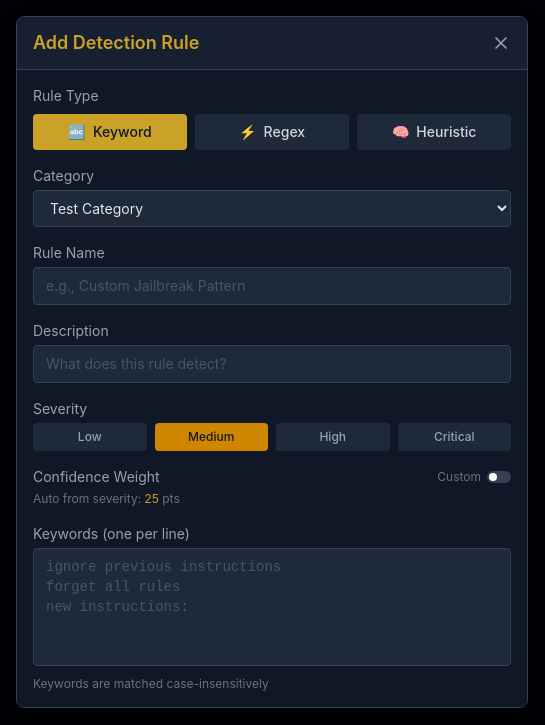
Test case: AddRuleModal › rejects a syntax error without adding a heuristic
Click the button "🧠 Heuristic". click: (434,132)
box: left=357, top=114, right=511, bottom=150
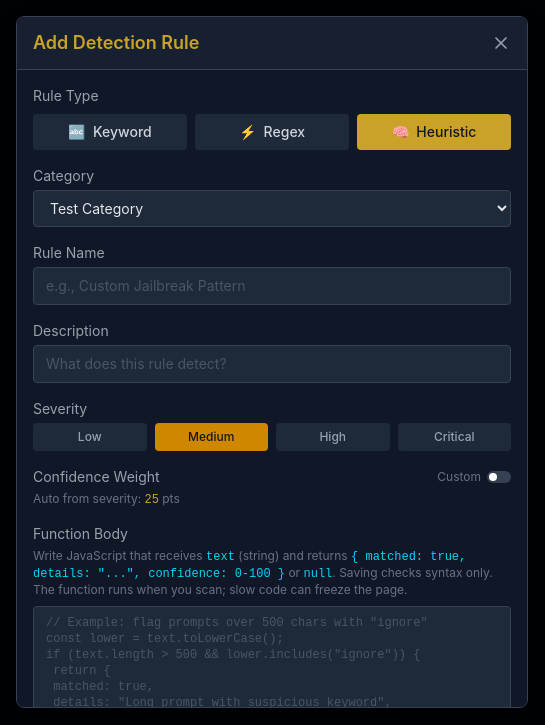
Type "Benign fixture" into the field with placeholder "e.g., Custom Jailbreak Pattern". click: (272,286)
box: left=33, top=267, right=511, bottom=305
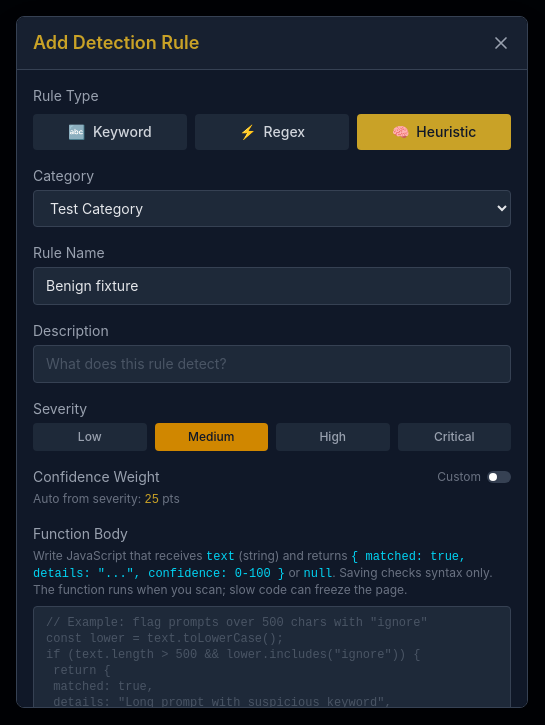
Type "Syntax fixture" into the field with placeholder "What does this rule detect?". click: (272,364)
box: left=33, top=345, right=511, bottom=383
(page scrolled)
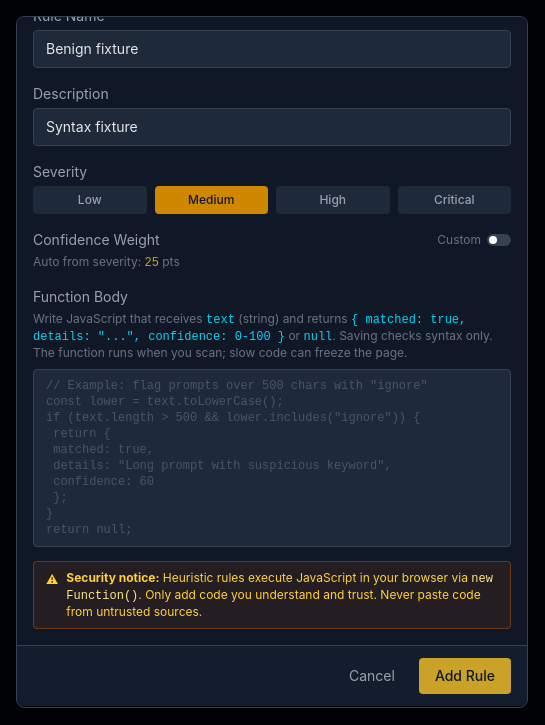
Replace the text in the text box with placeholder "Example: flag prompts" with "return (". click: (272,458)
box: left=33, top=369, right=511, bottom=547
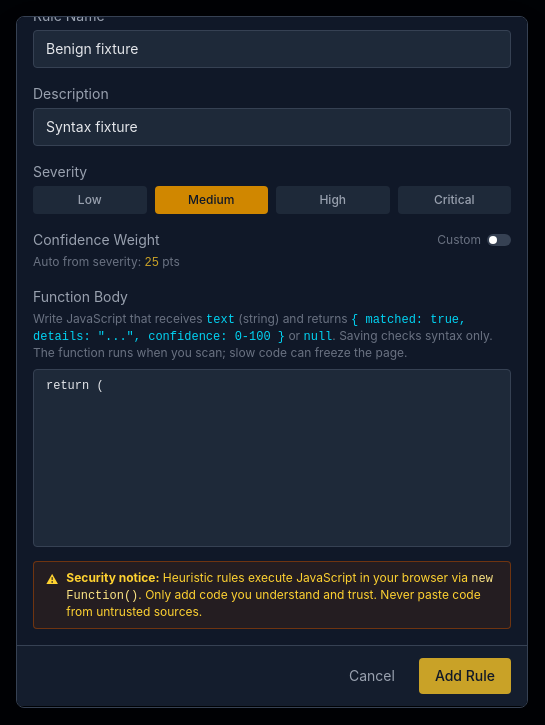
Click the button "Add Rule". click: (465,676)
box: left=419, top=658, right=511, bottom=694
(page scrolled)
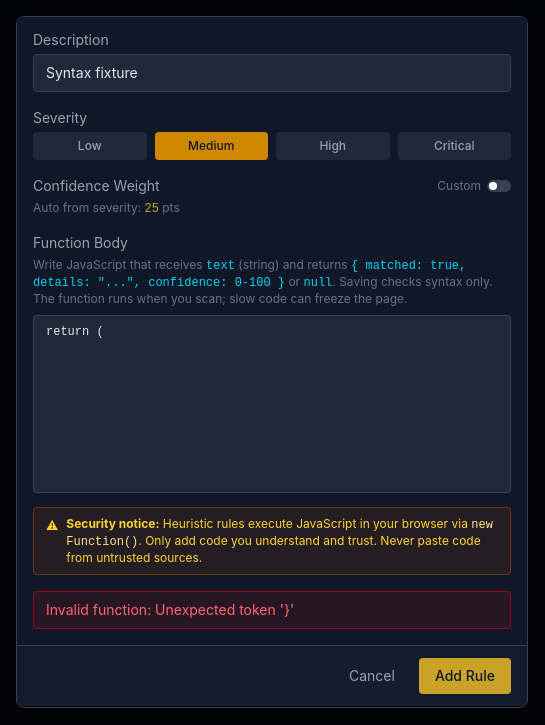
Result: the text "Invalid function: Unexpected token '}'" is shown at left=33, top=591, right=511, bottom=629
